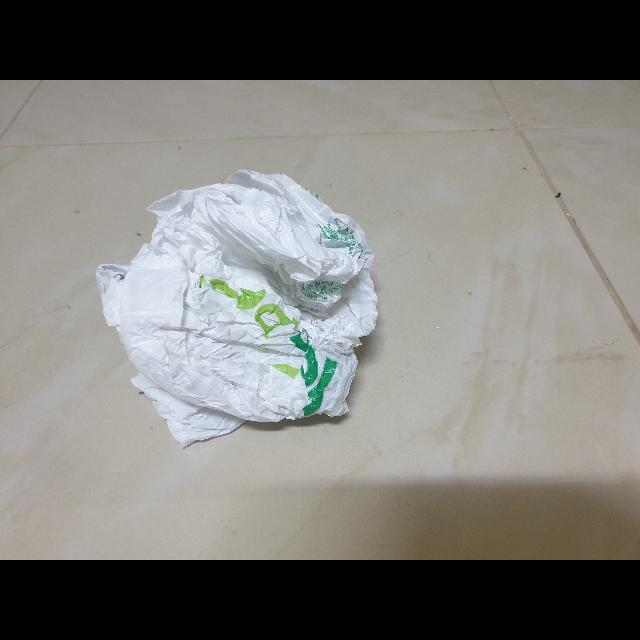plastic_bag: (91, 160, 387, 468)
